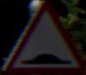Speed Breaker ahead: (14, 11, 73, 66)
